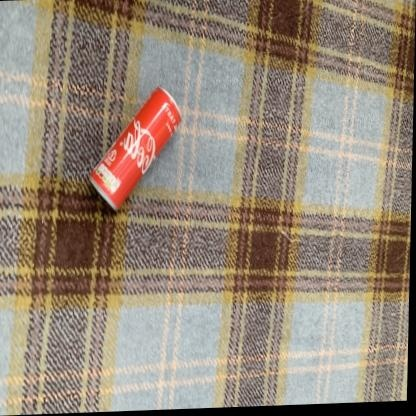trash: (90, 87, 180, 209)
